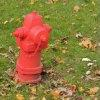a fire hydrant: (14, 11, 50, 81)
